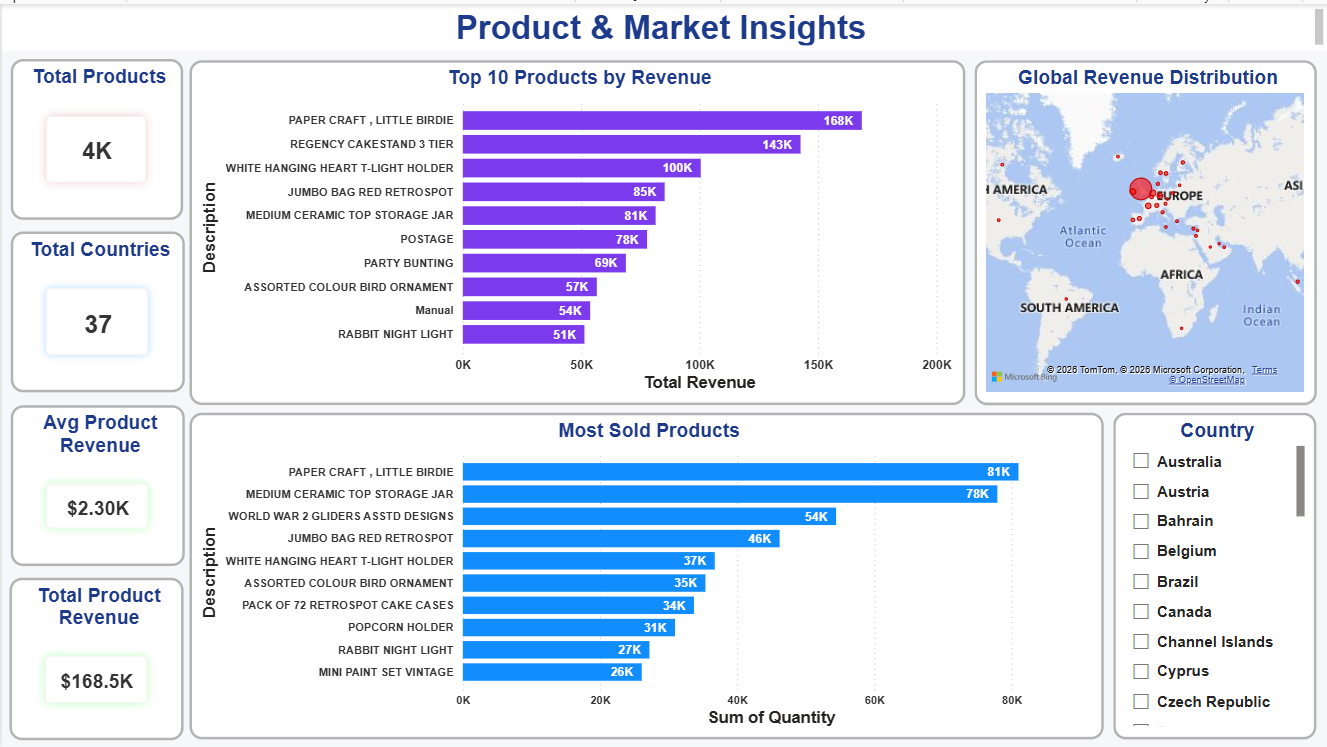

What the dashboard file says about the page in this screenshot:
{"tool":"powerbi","page":{"name":"Product & Market Insights","canvas":[1280,720],"ordinal":2},"visuals":[{"type":"textbox","box":[0,0,1280.2,45.3],"z":0},{"type":"cardVisual","title":"Total Products","fields":{"Data":["cleaned ecommerce data.Total Products"]},"box":[8.3,53.3,166.7,155],"z":1000},{"type":"cardVisual","title":"Avg Product Revenue","fields":{"Data":["cleaned ecommerce data.Avg Product Revenue"]},"box":[8.3,386.7,168.3,155],"z":2000},{"type":"cardVisual","title":"Total Product Revenue","fields":{"Data":["cleaned ecommerce data.Top Product Revenue"]},"box":[6.7,553.3,168.3,156.7],"z":3000},{"type":"cardVisual","title":"Total Countries","fields":{"Data":["cleaned ecommerce data.Total Countries"]},"box":[8.3,220,168.3,155],"z":4000},{"type":"clusteredBarChart","title":"Top 10 Products by Revenue","fields":{"Category":["cleaned ecommerce data.Description"],"Y":["cleaned ecommerce data.Total Revenue"]},"box":[181.2,53.8,748.8,332.5],"z":5000},{"type":"clusteredBarChart","title":"Most Sold Products","fields":{"Category":["cleaned ecommerce data.Description"],"Y":["Sum(cleaned ecommerce data.Quantity)"]},"box":[181.2,395,882.5,315],"z":6000},{"type":"map","title":"Global Revenue Distribution","fields":{"Category":["cleaned ecommerce data.Country"],"Size":["cleaned ecommerce data.Total Revenue"]},"box":[938.8,53.8,330,332.5],"z":7000},{"type":"slicer","title":"Country","fields":{"Values":["cleaned ecommerce data.Country"]},"box":[1072.5,395,196.2,315],"z":8000}]}

Visuals, with their boxes in screenshot pixels (x1, y1, x2, y2), scaled from the page's 1280x720 canvas onto the 1327x747 screenshot:
textbox: 0,0,1326,47
"Total Products" cardVisual: 9,55,181,216
"Avg Product Revenue" cardVisual: 9,401,183,562
"Total Product Revenue" cardVisual: 7,574,181,737
"Total Countries" cardVisual: 9,228,183,389
"Top 10 Products by Revenue" clusteredBarChart: 188,56,964,401
"Most Sold Products" clusteredBarChart: 188,410,1103,737
"Global Revenue Distribution" map: 973,56,1315,401
"Country" slicer: 1112,410,1315,737
